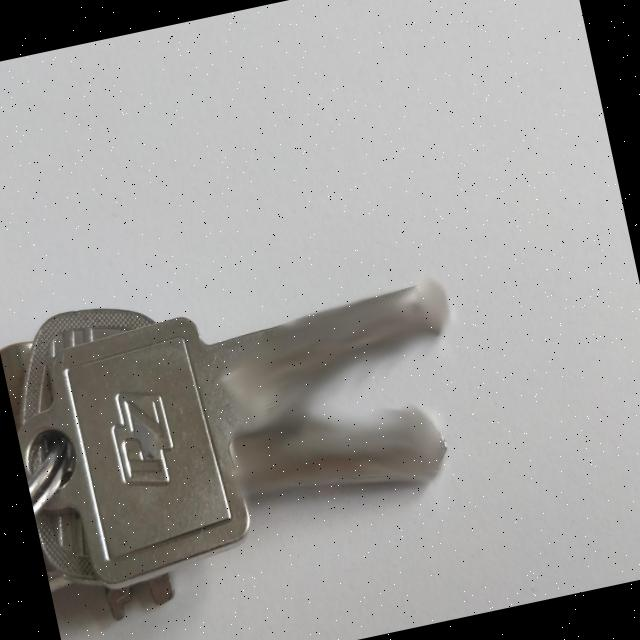Frontdoor keys: (0, 226, 500, 609)
